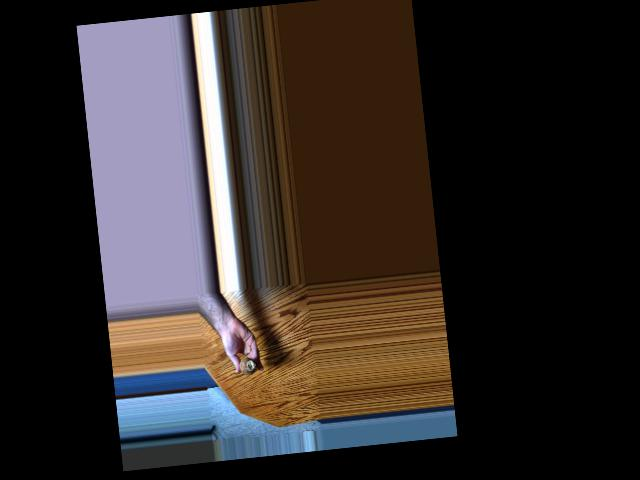sweet_potato: (236, 359, 256, 376)
